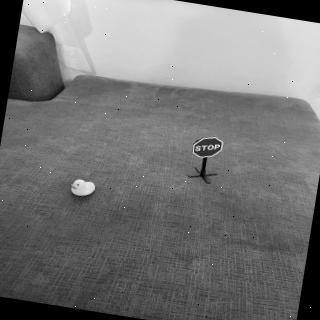duck_regular: (70, 178, 99, 201)
sign_stop: (191, 134, 227, 164)
